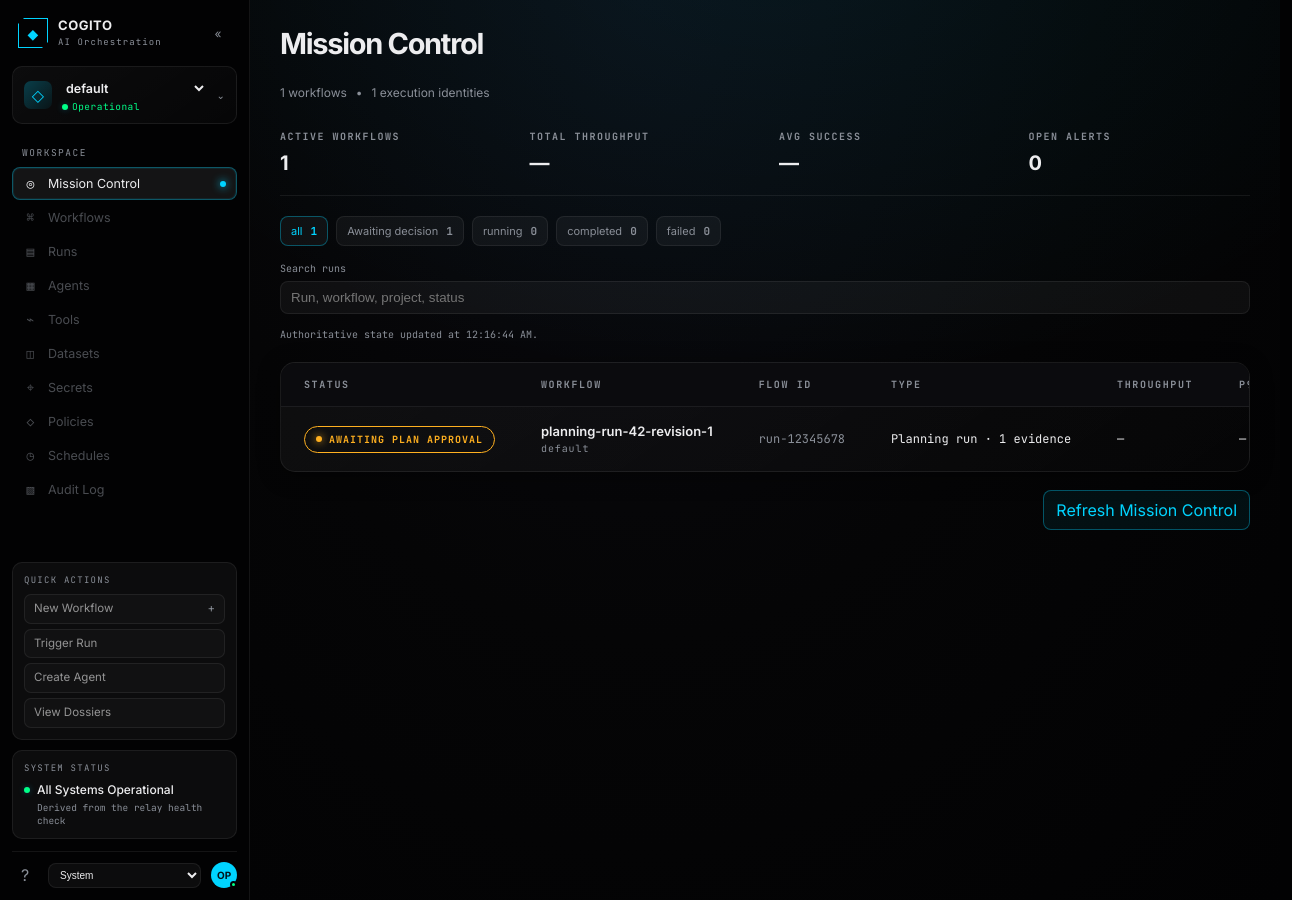
it: disables a waiting-gate decision when its authoritative artifact is absent
Click the text "run-12345678". click: (802, 439)
box: top-left (736, 407), bottom-right (868, 471)
(page scrolled)
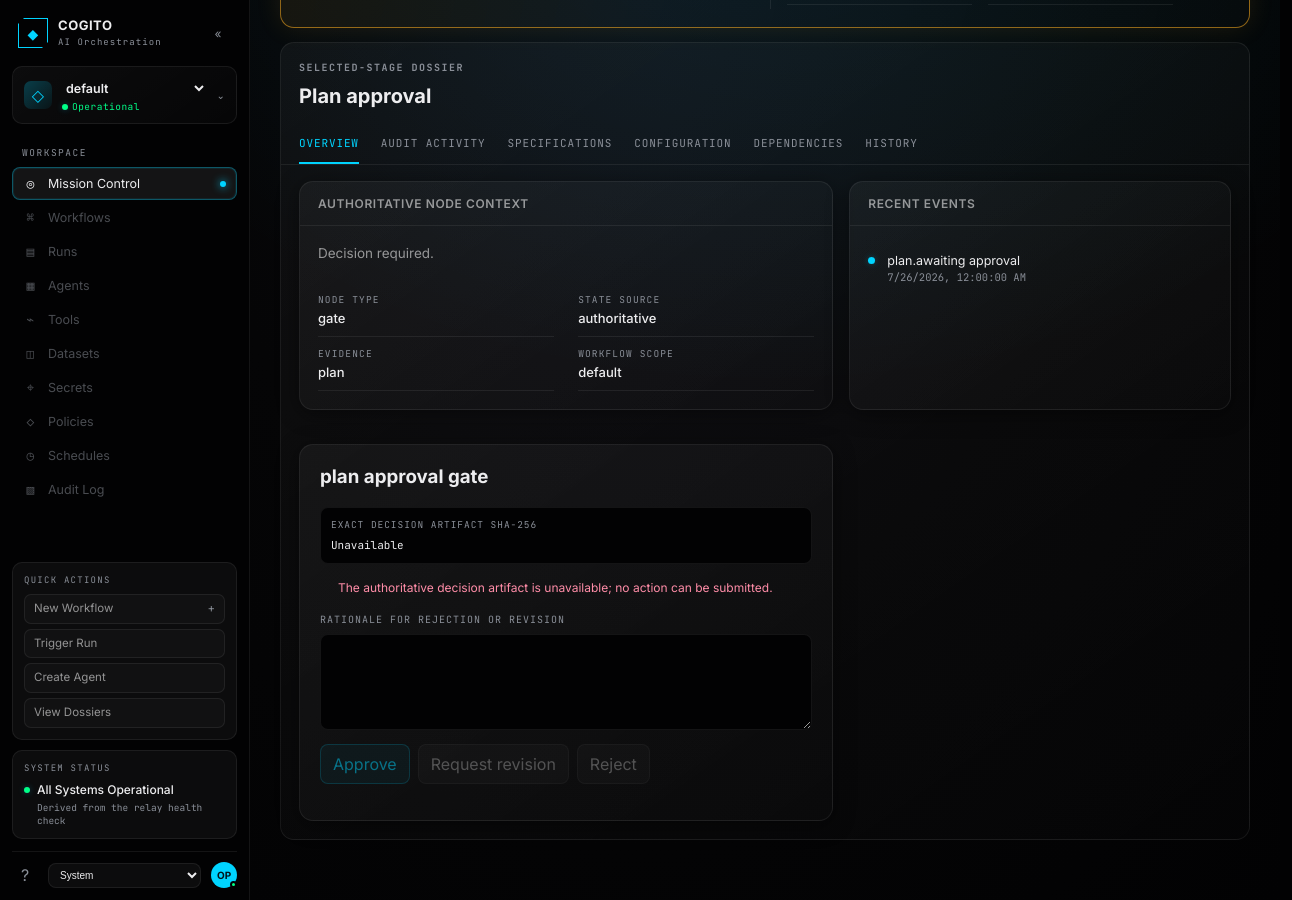
Check: the text named "Exact plan decision artifact SHA-256" reads "Unavailable", box top-left (331, 538), bottom-right (404, 552)
Check: the button "Approve" is disabled, box top-left (320, 744), bottom-right (410, 784)
Check: the button "Request revision" is disabled, box top-left (418, 744), bottom-right (569, 784)
